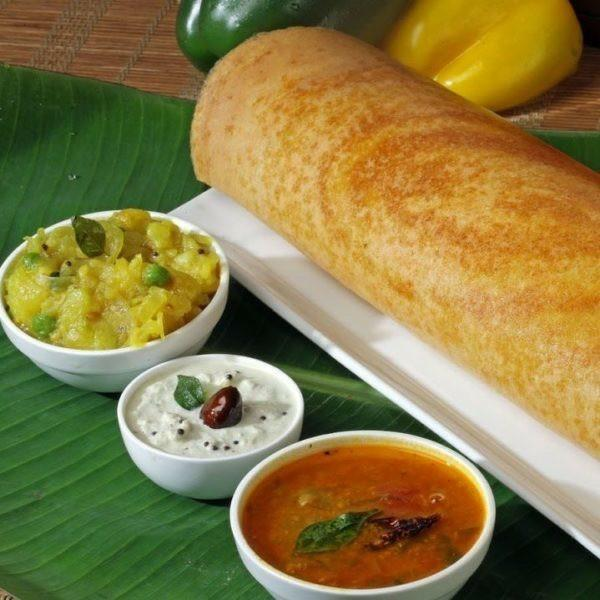CoconutChutney: (125, 362, 293, 459)
Dosa: (191, 27, 600, 459)
